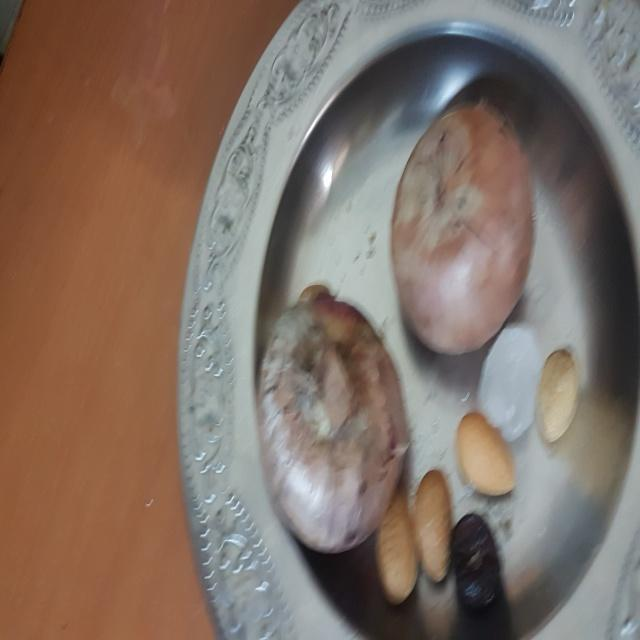onion: (385, 92, 537, 356), (258, 293, 410, 557)
